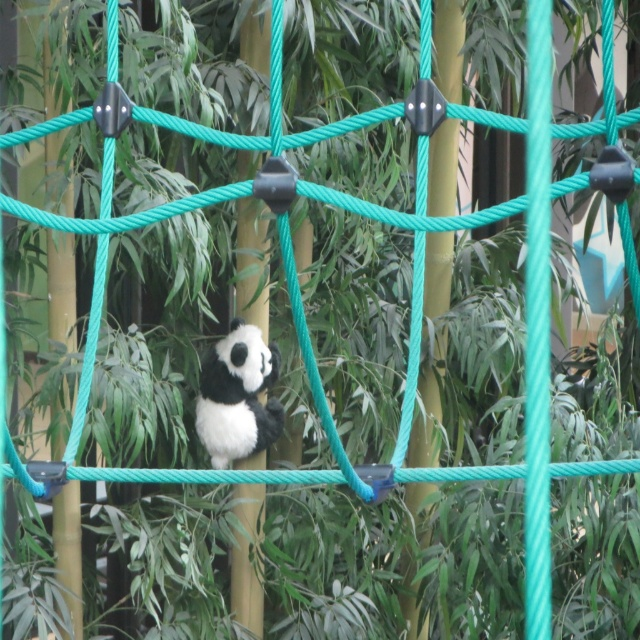Panda: (182, 315, 280, 479)
